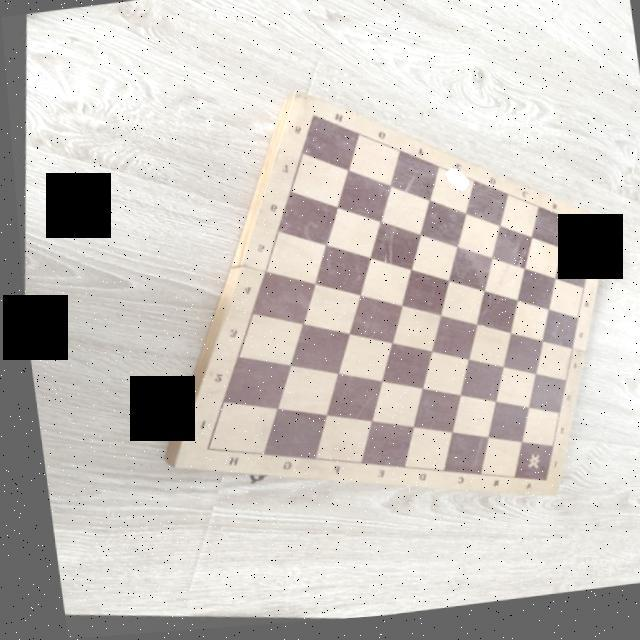chess-table-corners: (304, 111, 320, 128), (192, 444, 206, 457), (583, 232, 598, 242), (530, 482, 542, 492)
